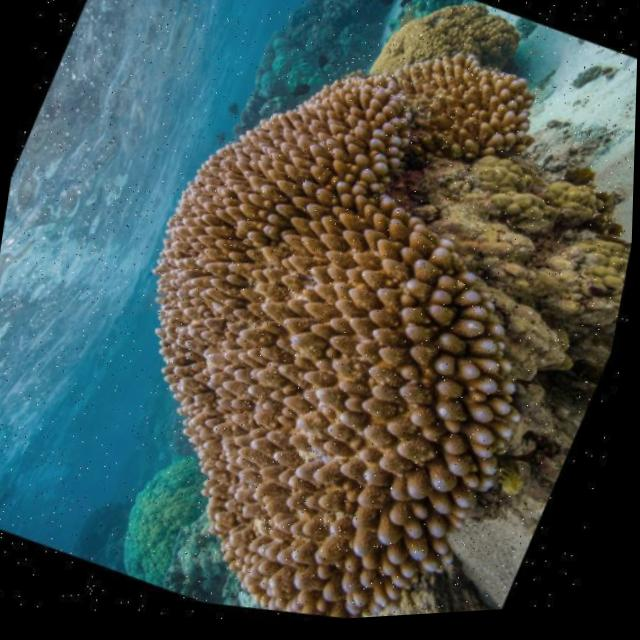Healthy Coral: (22, 0, 640, 638), (102, 438, 275, 615)
